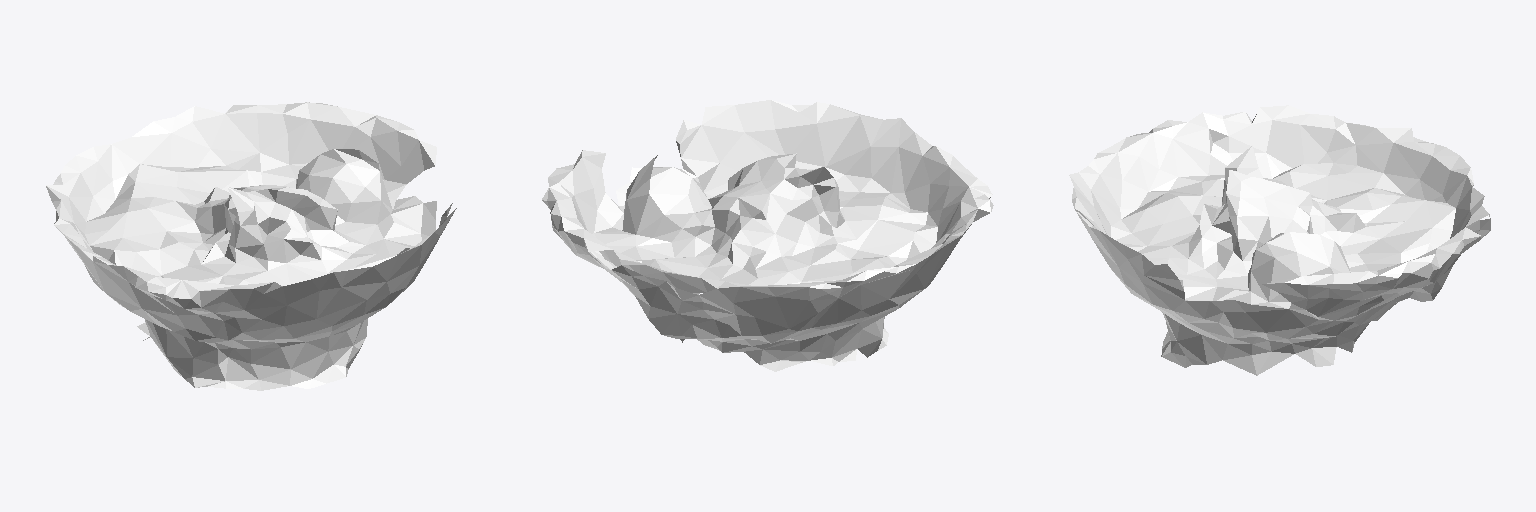
The picture shows the model from 3 angles: view 1: azimuth 30°, elevation 25°; view 2: azimuth 150°, elevation 25°; view 3: azimuth 270°, elevation 25°; orthographic projection.
Parts seen in each view (by area): view 1: map_9c109b18-f7e9-486f-bd28-73ebb274a078_densified_mesh_texture; view 2: map_9c109b18-f7e9-486f-bd28-73ebb274a078_densified_mesh_texture; view 3: map_9c109b18-f7e9-486f-bd28-73ebb274a078_densified_mesh_texture.
Part boxes in pixels (left/top/right/bottom): map_9c109b18-f7e9-486f-bd28-73ebb274a078_densified_mesh_texture: left=46, top=102, right=456, bottom=390; map_9c109b18-f7e9-486f-bd28-73ebb274a078_densified_mesh_texture: left=542, top=100, right=993, bottom=371; map_9c109b18-f7e9-486f-bd28-73ebb274a078_densified_mesh_texture: left=1069, top=105, right=1490, bottom=375.
Bounding box in the file's own units: 0.2198 × 0.1021 × 0.2171.